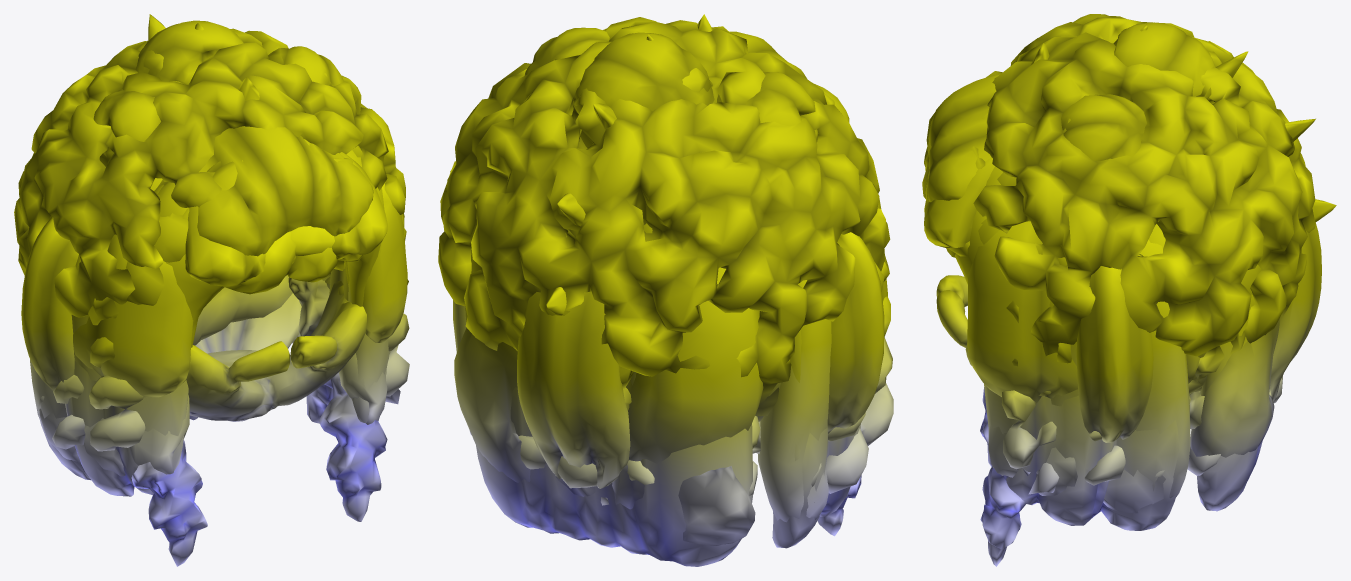
File: doll_hair_lod1.glb
3 views of the same model, side by side, from view 1: azimuth 30°, elevation 25°; view 2: azimuth 150°, elevation 25°; view 3: azimuth 270°, elevation 25° (orthographic). The views are drawn at different scales.
Visible parts, largest first — view 1: hair_afro__hair, hair_bob__hair, hair_davidcut__hair, beard_full__beard, hair_braids__hair, hair_sleek__hair, hair_curls__hair, hair_waves__hair, hair_pigtails__hair, hair_spacebuns__hair, hair_bun__hair, hair_mullet__hair (+3 smaller); view 2: hair_afro__hair, hair_waves__hair, hair_sleek__hair, hair_ponytail__hair, hair_pigtails__hair, hair_bun__hair, hair_curls__hair, hair_spacebuns__hair, hair_mohawk__hair, hair_davidcut__hair, hair_braids__hair; view 3: hair_afro__hair, hair_waves__hair, hair_sleek__hair, hair_bob__hair, hair_pigtails__hair, hair_curls__hair, hair_davidcut__hair, hair_spacebuns__hair, hair_bun__hair, hair_ponytail__hair, hair_braids__hair, beard_full__beard (+1 smaller).
Boxes of the visible parts, x1=… form: hair_afro__hair: x1=14, y1=28, x2=405, y2=345; hair_bob__hair: x1=73, y1=152, x2=407, y2=397; hair_davidcut__hair: x1=197, y1=126, x2=373, y2=256; beard_full__beard: x1=186, y1=281, x2=366, y2=421; hair_braids__hair: x1=131, y1=184, x2=387, y2=566; hair_sleek__hair: x1=30, y1=161, x2=390, y2=496; hair_curls__hair: x1=38, y1=145, x2=409, y2=451; hair_waves__hair: x1=36, y1=231, x2=387, y2=476; hair_pigtails__hair: x1=21, y1=150, x2=404, y2=390; hair_spacebuns__hair: x1=93, y1=46, x2=343, y2=166; hair_bun__hair: x1=135, y1=20, x2=243, y2=84; hair_mullet__hair: x1=195, y1=293, x2=301, y2=353; hair_afro__hair: x1=438, y1=17, x2=890, y2=421; hair_waves__hair: x1=453, y1=250, x2=831, y2=545; hair_sleek__hair: x1=456, y1=251, x2=860, y2=566; hair_ponytail__hair: x1=517, y1=291, x2=630, y2=488; hair_pigtails__hair: x1=827, y1=232, x2=884, y2=433; hair_bun__hair: x1=571, y1=32, x2=714, y2=148; hair_curls__hair: x1=518, y1=198, x2=893, y2=505; hair_spacebuns__hair: x1=524, y1=27, x2=818, y2=141; hair_mohawk__hair: x1=546, y1=14, x2=712, y2=315; hair_davidcut__hair: x1=729, y1=31, x2=849, y2=122; hair_braids__hair: x1=817, y1=475, x2=861, y2=536; hair_afro__hair: x1=971, y1=17, x2=1315, y2=395; hair_waves__hair: x1=922, y1=164, x2=1279, y2=513; hair_sleek__hair: x1=955, y1=175, x2=1273, y2=530; hair_bob__hair: x1=924, y1=147, x2=1201, y2=402; hair_pigtails__hair: x1=986, y1=166, x2=1153, y2=442; hair_curls__hair: x1=948, y1=172, x2=1282, y2=494; hair_davidcut__hair: x1=926, y1=74, x2=999, y2=202; hair_spacebuns__hair: x1=1061, y1=14, x2=1146, y2=160; hair_bun__hair: x1=1113, y1=22, x2=1215, y2=99; hair_ponytail__hair: x1=1270, y1=222, x2=1321, y2=402; hair_braids__hair: x1=978, y1=218, x2=1030, y2=566; beard_full__beard: x1=936, y1=275, x2=971, y2=365.
Bounding box in the file's own units: 0.7088 × 0.8391 × 0.6362.
